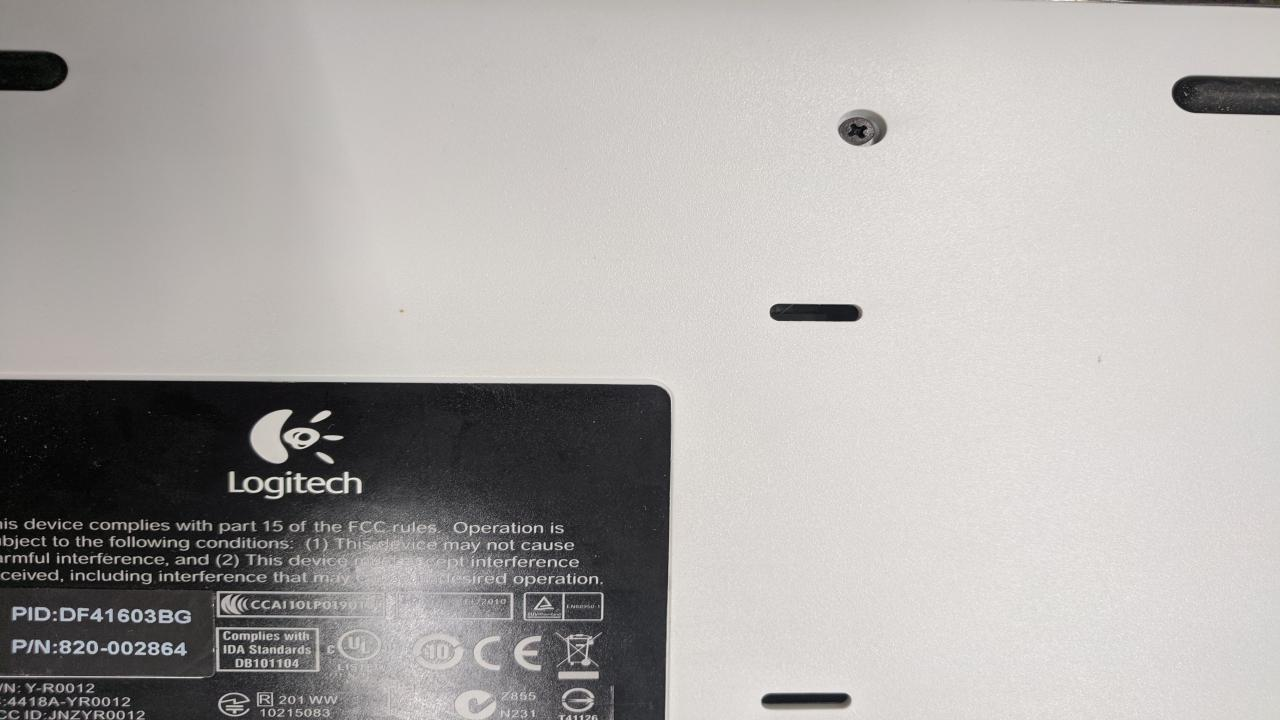CRS: (838, 114, 882, 148)
